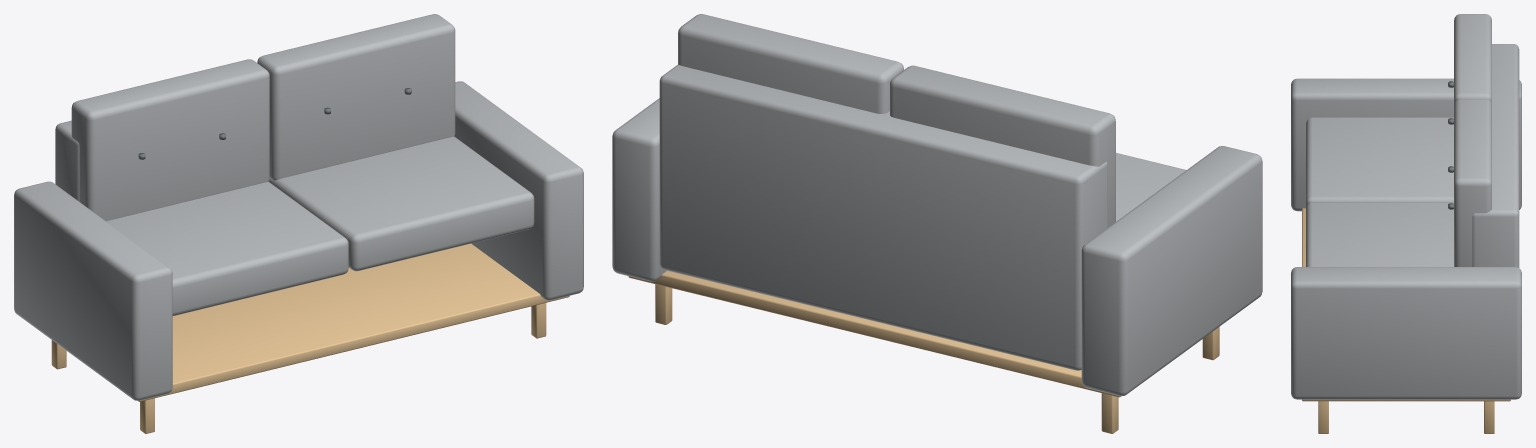
Rendered from seating.sofa-2p.glb.
3 views of the same model, side by side, from view 1: azimuth 30°, elevation 25°; view 2: azimuth 150°, elevation 25°; view 3: azimuth 270°, elevation 25° (orthographic). The views are drawn at different scales.
Parts seen in each view (by area): view 1: seating.sofa-2p; view 2: seating.sofa-2p; view 3: seating.sofa-2p.
Part boxes in pixels (<box>): seating.sofa-2p: <box>14,14,583,433</box>; seating.sofa-2p: <box>612,14,1262,433</box>; seating.sofa-2p: <box>1291,14,1521,433</box>.
Size of the model in its own units: 1.8 by 1 by 0.85.
